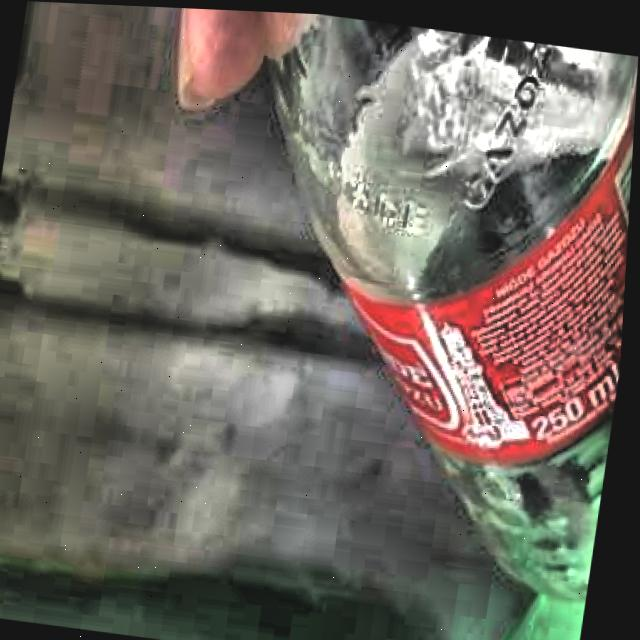glass: (275, 11, 639, 589)
